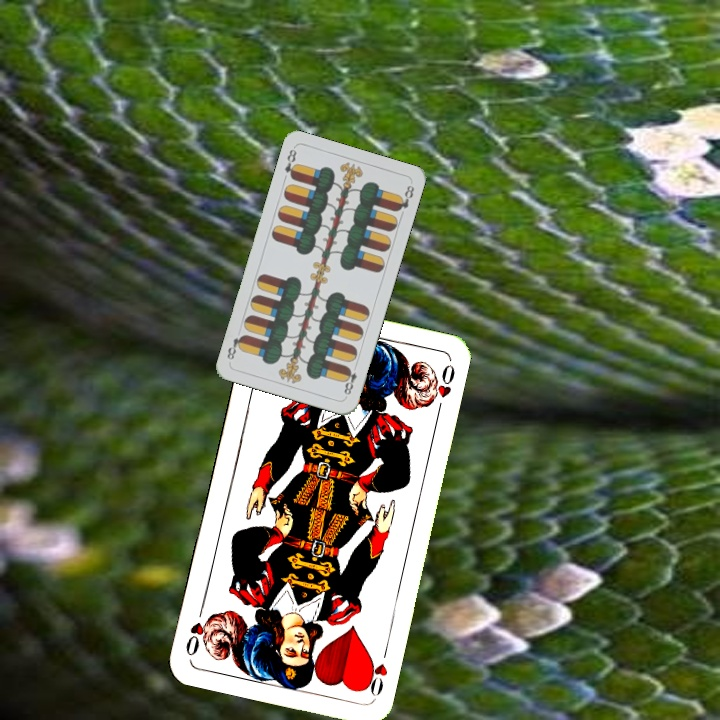E8: (340, 360, 360, 399), (280, 145, 300, 182)
HO: (360, 642, 391, 699)
